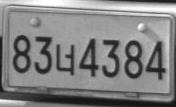3: (101, 38, 120, 78), (34, 36, 52, 74)
4: (145, 40, 167, 81), (78, 37, 99, 77)
8: (123, 39, 143, 80), (11, 34, 31, 73)
너: (55, 43, 75, 75)
